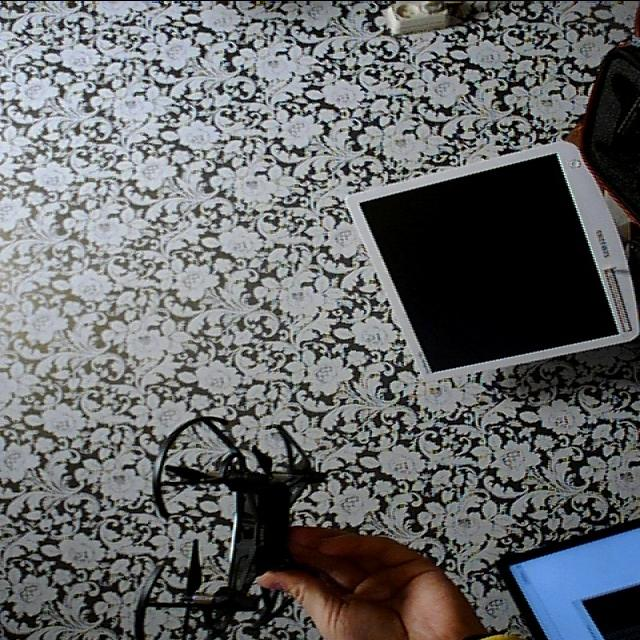drone: (97, 416, 367, 640)
